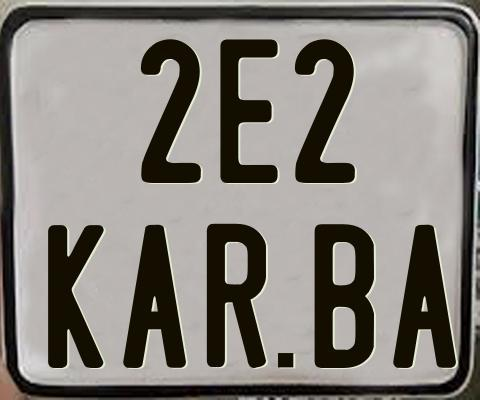2: (294, 38, 358, 187), (138, 36, 200, 182)
A: (392, 223, 459, 367), (122, 222, 186, 366)
B: (313, 221, 379, 365)
E: (217, 38, 281, 187)
K: (48, 223, 109, 370)
R: (207, 221, 267, 368)
